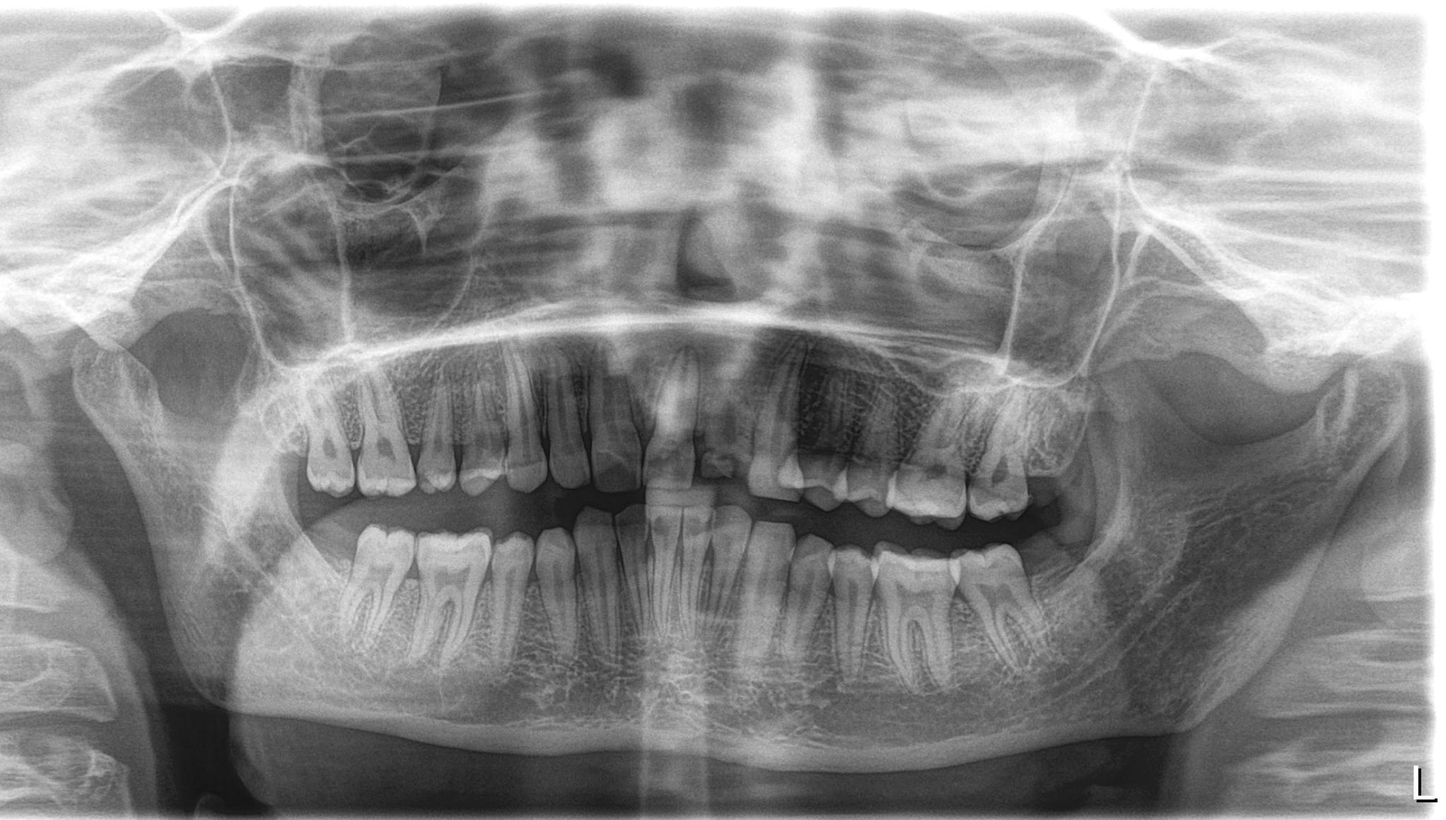Missing Tooth: (291, 519, 351, 621), (1027, 526, 1095, 611), (1038, 404, 1087, 513)
